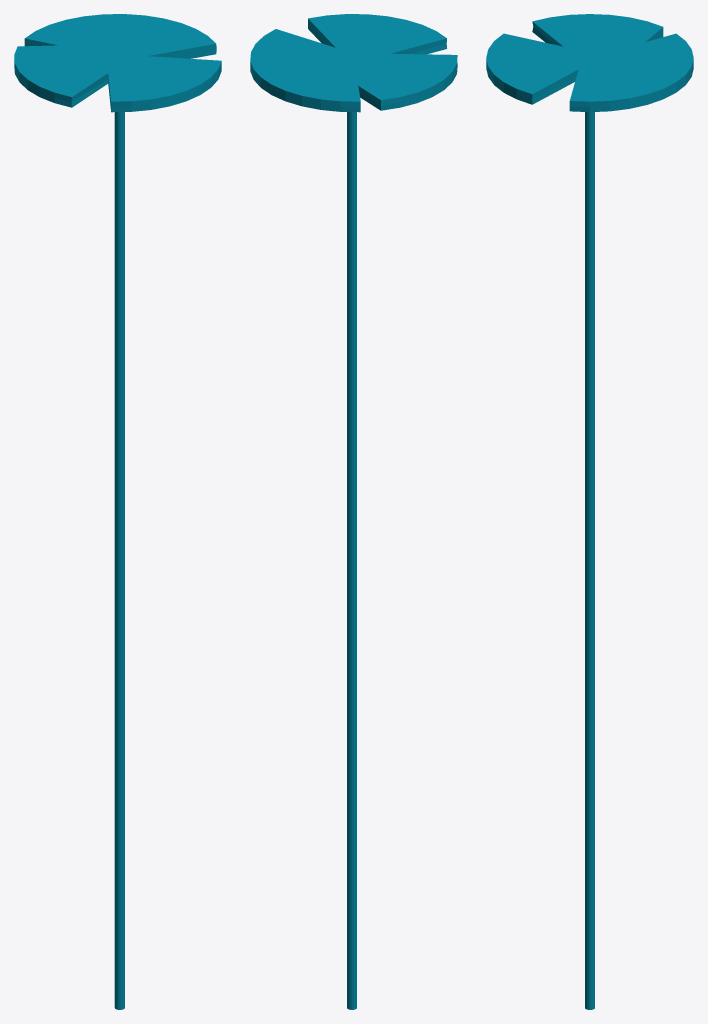
The model's file is lilygroup4.fbx.
3 renders of one model, left to right at view 1: azimuth 30°, elevation 25°; view 2: azimuth 150°, elevation 25°; view 3: azimuth 270°, elevation 25°, orthographic.
Visible parts, largest first — view 1: LilyPad1 (7); view 2: LilyPad1 (7); view 3: LilyPad1 (7).
Part boxes in pixels (bbox=[...]): LilyPad1 (7): bbox=[14, 14, 221, 1009]; LilyPad1 (7): bbox=[250, 14, 457, 1009]; LilyPad1 (7): bbox=[486, 14, 693, 1009].
Size of the model in its own units: 1.17 by 5.9 by 1.17.
